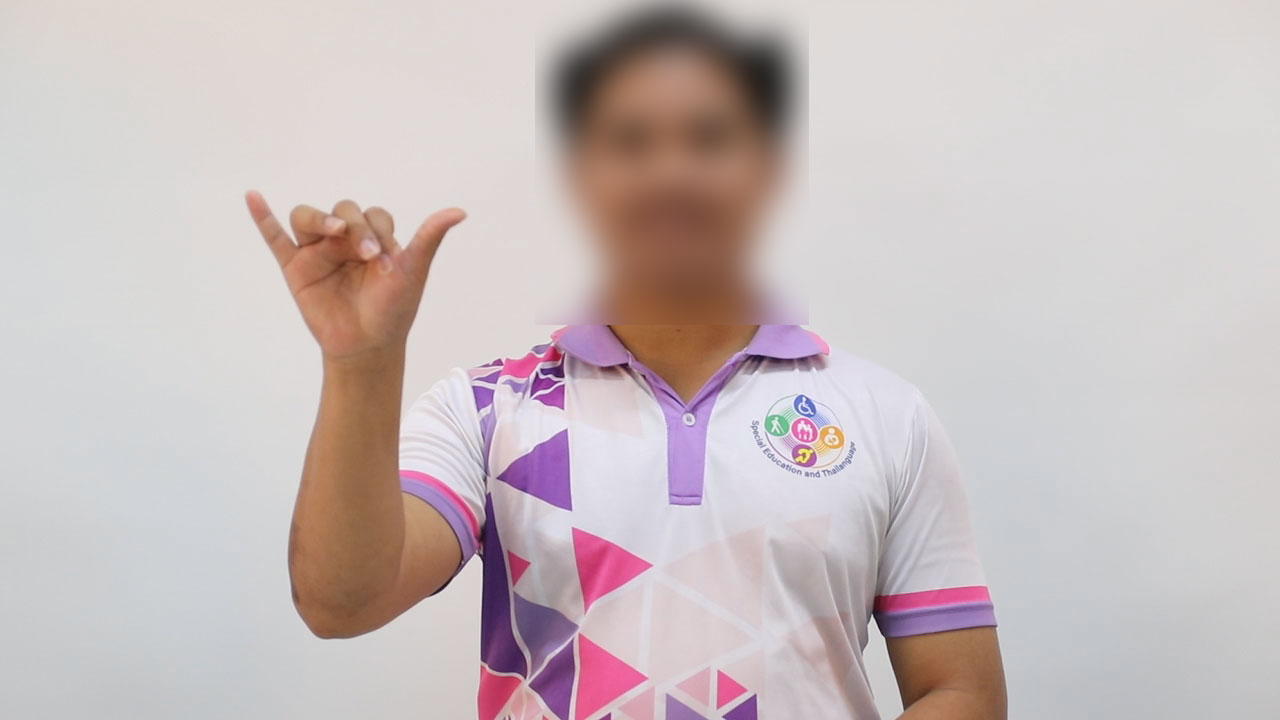yor: (224, 169, 487, 374)
